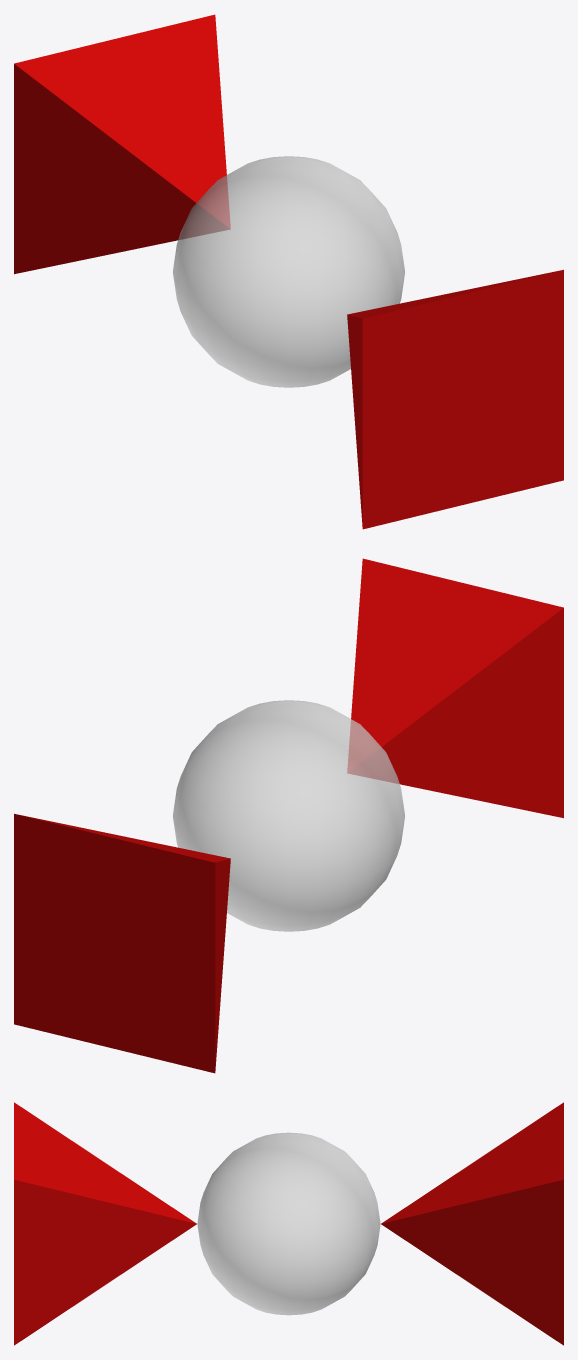
Rendered from Suporte 1.fbx.
3 renders of one model, top to bottom at view 1: azimuth 30°, elevation 25°; view 2: azimuth 150°, elevation 25°; view 3: azimuth 270°, elevation 25°, orthographic. The views are drawn at different scales.
Visible parts, largest first — view 1: Pyramid, Pyramid_1, Sphere; view 2: Pyramid_1, Pyramid, Sphere; view 3: Sphere, Pyramid_1, Pyramid.
Boxes of the visible parts, x1,y1,x2,y2 form: Pyramid: [347, 269, 563, 529]; Pyramid_1: [14, 14, 230, 274]; Sphere: [173, 156, 404, 387]; Pyramid_1: [14, 813, 230, 1073]; Pyramid: [347, 558, 563, 818]; Sphere: [173, 700, 404, 931]; Sphere: [197, 1132, 380, 1315]; Pyramid_1: [381, 1102, 563, 1345]; Pyramid: [14, 1102, 196, 1345].
Bounding box in the file's own units: 200 × 200 × 600.
